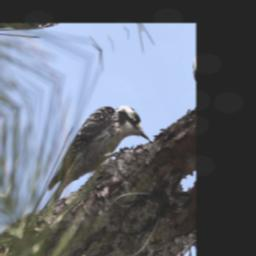Woodpecker: (27, 77, 157, 217)
